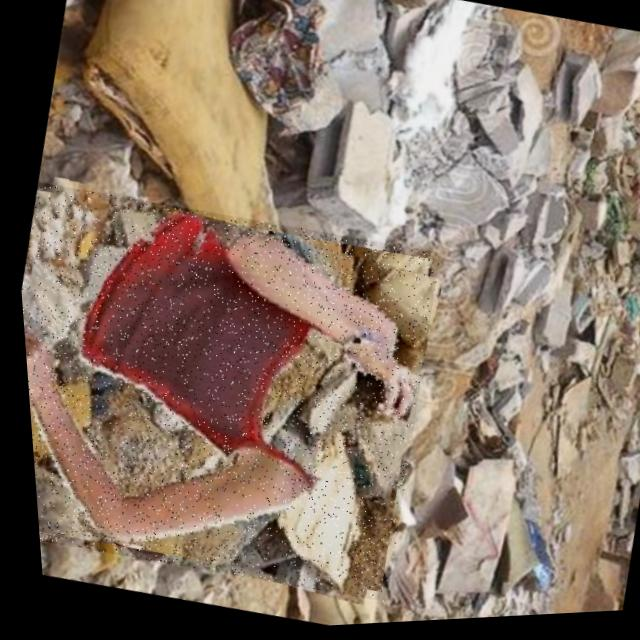Person in Rubble: (11, 166, 455, 619)
